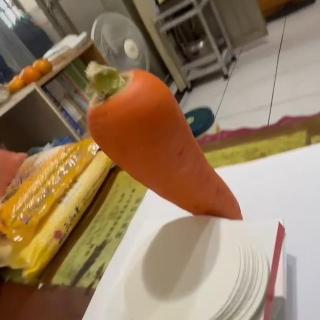carrot: (84, 62, 242, 221)
